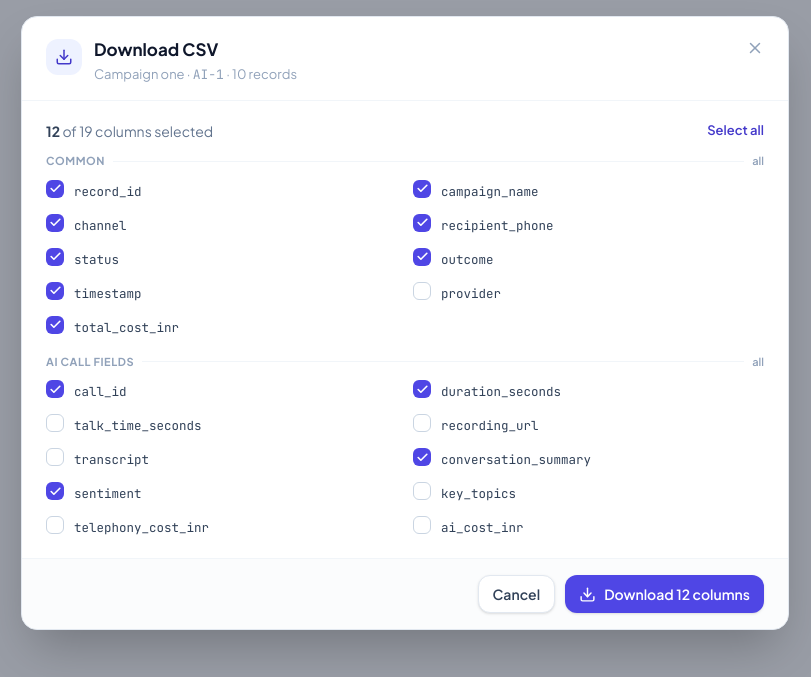
Test: DownloadModal › keeps polling when a job lookup temporarily returns no job
Click the button "Download 12 columns". click: x=665, y=594
box: [565,575,764,613]
Wait 1500 ms
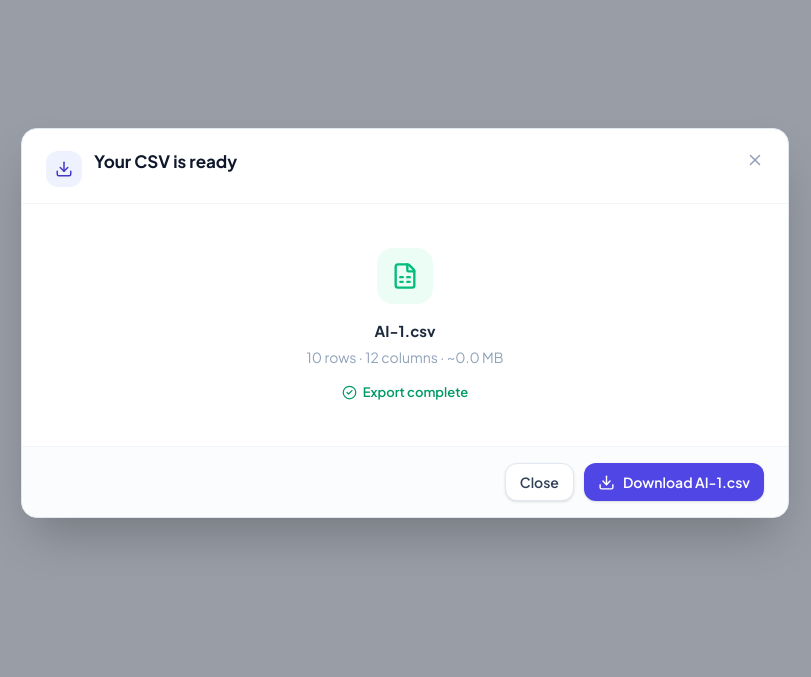
Check: the button "Download AI-1.csv" is shown, box [584,463,764,501]
